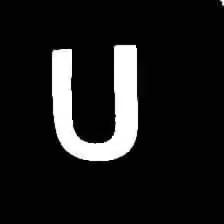LTR_U: (45, 32, 143, 166)
